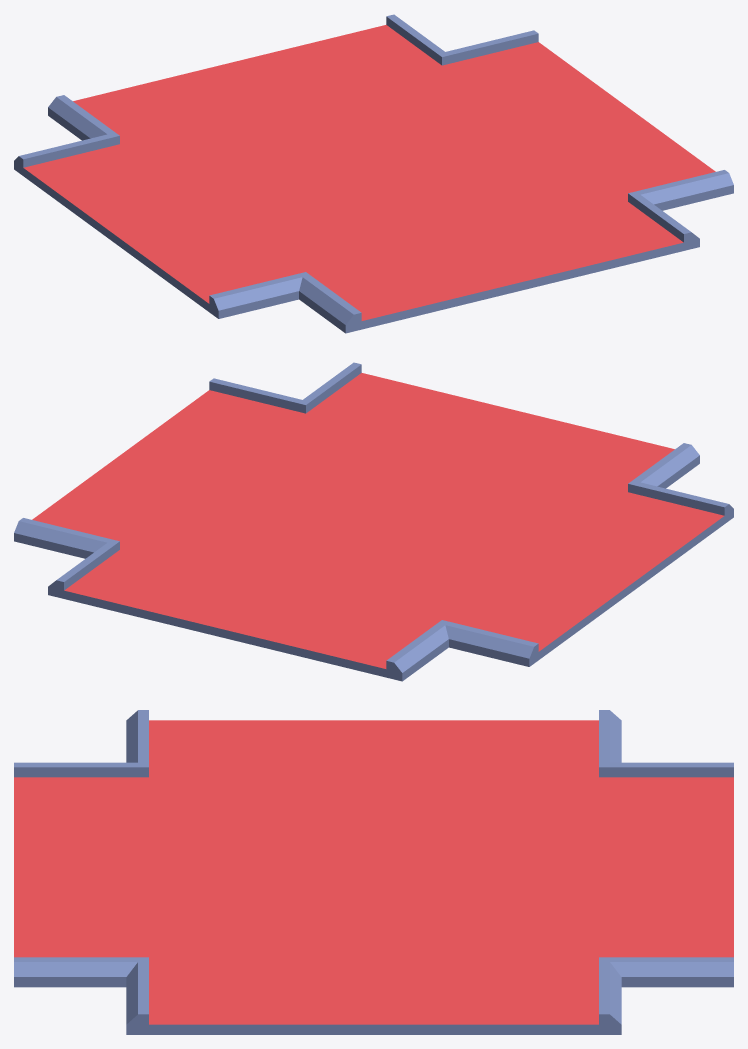
File: tile-cross.glb
3 renders of one model, top to bottom at view 1: azimuth 30°, elevation 25°; view 2: azimuth 150°, elevation 25°; view 3: azimuth 270°, elevation 25°, orthographic. The views are drawn at different scales.
Visible parts, largest first — view 1: tile-cross; view 2: tile-cross; view 3: tile-cross.
Part boxes in pixels (bbox=[...]): tile-cross: bbox=[14, 14, 733, 333]; tile-cross: bbox=[14, 362, 733, 681]; tile-cross: bbox=[14, 710, 733, 1034].
Size of the model in its own units: 16 by 0.5 by 16.
